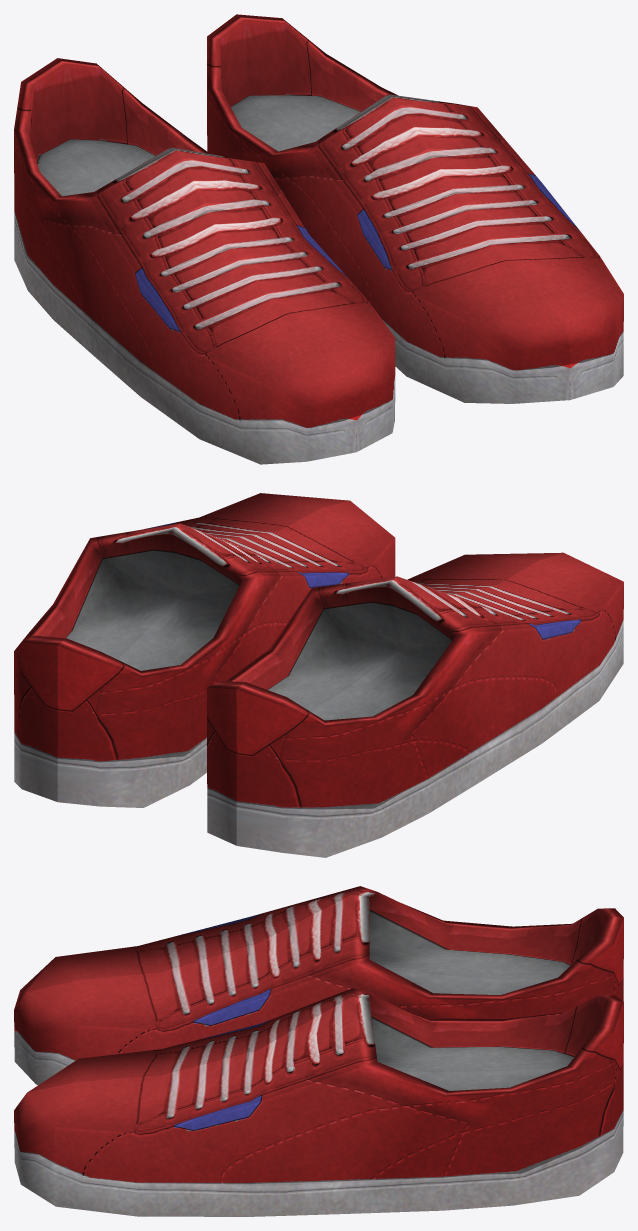
The model's file is Sun_0672_Trainers.fbx.
3 views of the same model, one above another, from view 1: azimuth 30°, elevation 25°; view 2: azimuth 150°, elevation 25°; view 3: azimuth 270°, elevation 25° (orthographic). The views are drawn at different scales.
Visible parts, largest first — view 1: Sun_0672_Trainers; view 2: Sun_0672_Trainers; view 3: Sun_0672_Trainers.
Part boxes in pixels (left/top/right/bottom): Sun_0672_Trainers: left=14, top=14, right=623, bottom=464; Sun_0672_Trainers: left=14, top=493, right=623, bottom=857; Sun_0672_Trainers: left=14, top=886, right=623, bottom=1216.
Size of the model in its own units: 21.57 by 9.4 by 29.43.
